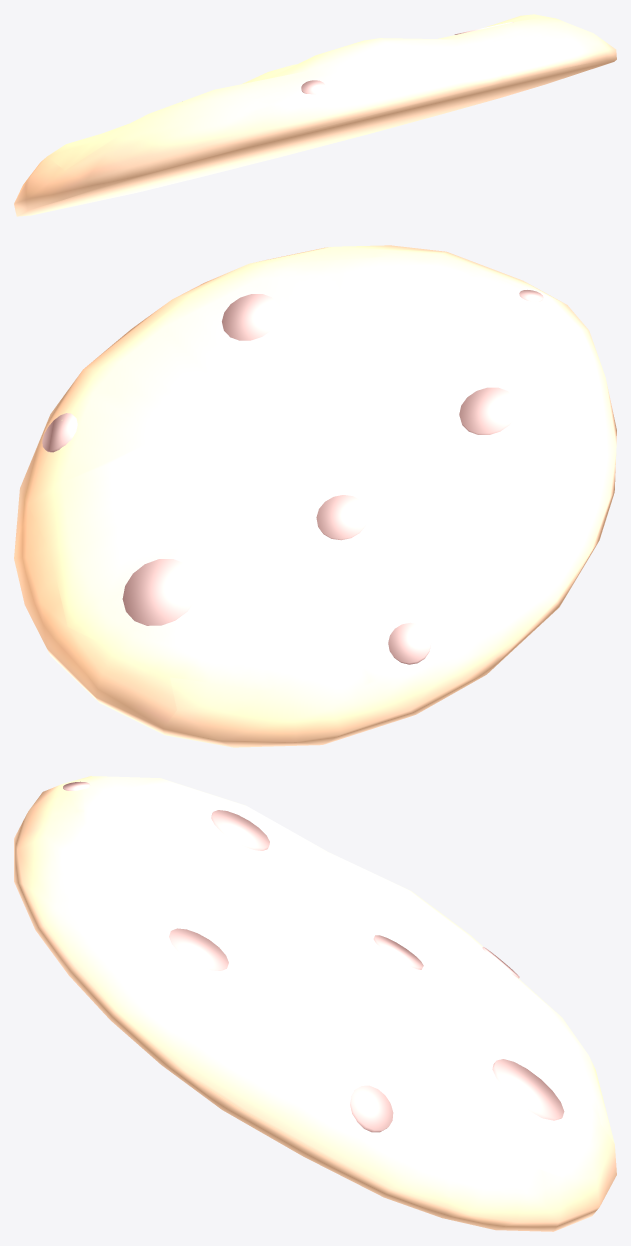
Rendered from cookie.glb.
3 renders of one model, top to bottom at view 1: azimuth 30°, elevation 25°; view 2: azimuth 150°, elevation 25°; view 3: azimuth 270°, elevation 25°, orthographic. The views are drawn at different scales.
Visible parts, largest first — view 1: Cylinder, Cylinder.007; view 2: Cylinder, Cylinder.007; view 3: Cylinder, Cylinder.007.
Part boxes in pixels (x1,y1,x2,y2): Cylinder: (14, 14, 616, 216); Cylinder.007: (301, 22, 513, 94); Cylinder: (14, 245, 616, 747); Cylinder.007: (42, 290, 543, 664); Cylinder: (14, 776, 616, 1231); Cylinder.007: (63, 781, 564, 1132).
Size of the model in its own units: 0.1252 by 0.0679 by 0.1086.
